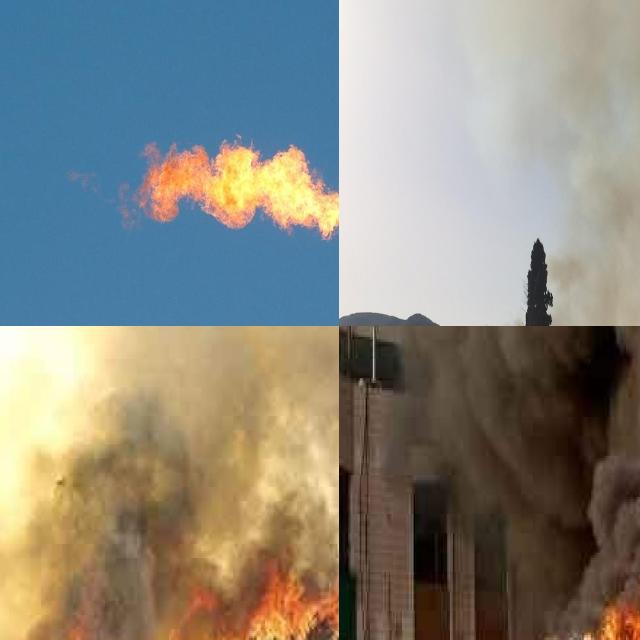fire: (148, 126, 339, 265), (147, 559, 339, 640)
smoke: (0, 326, 339, 640), (396, 326, 640, 601), (458, 2, 640, 326)
